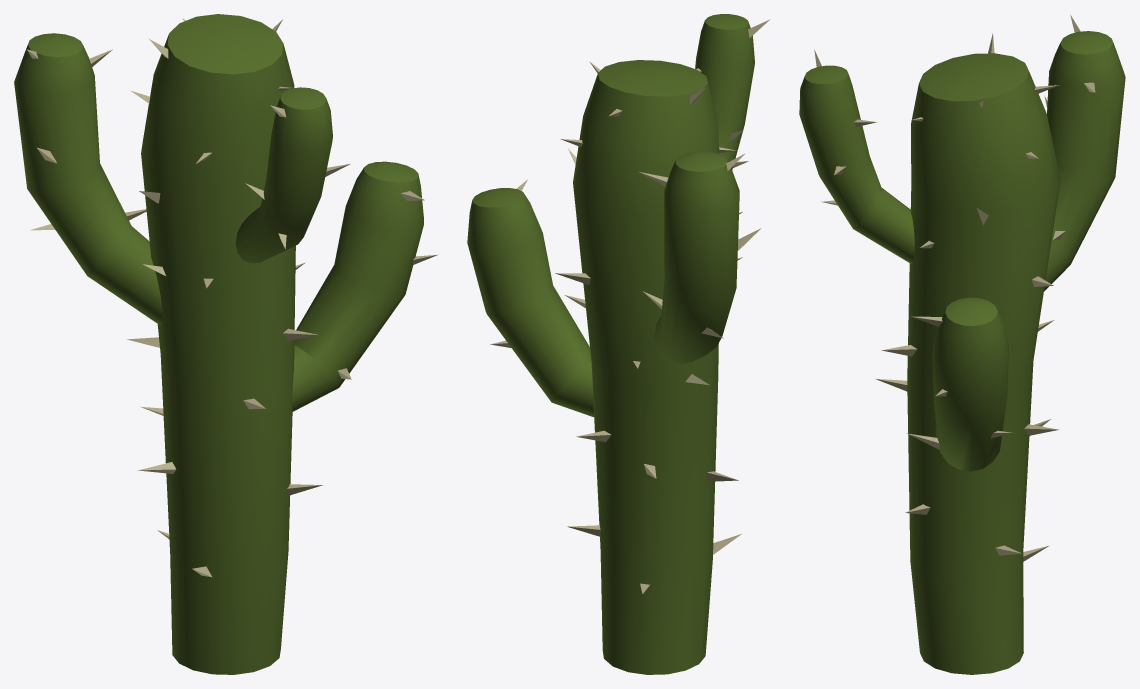
Rendered from Sm_CactusVer2L.fbx.
The picture shows the model from 3 angles, left to right: view 1: azimuth 30°, elevation 25°; view 2: azimuth 150°, elevation 25°; view 3: azimuth 270°, elevation 25°; orthographic projection. The views are drawn at different scales.
Parts seen in each view (by area): view 1: Sm_CactusVer2L; view 2: Sm_CactusVer2L; view 3: Sm_CactusVer2L.
Boxes of the visible parts, x1=… form: Sm_CactusVer2L: x1=14, y1=14, x2=438, y2=674; Sm_CactusVer2L: x1=467, y1=14, x2=769, y2=674; Sm_CactusVer2L: x1=799, y1=15, x2=1125, y2=674.
Size of the model in its own units: 72.46 by 125 by 62.6.
